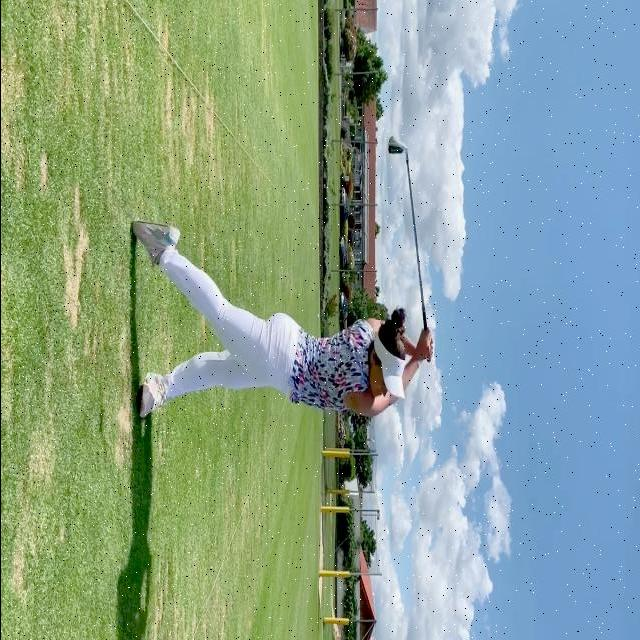golf club-handle: (388, 136, 429, 364)
golf club-head: (388, 135, 403, 154)
